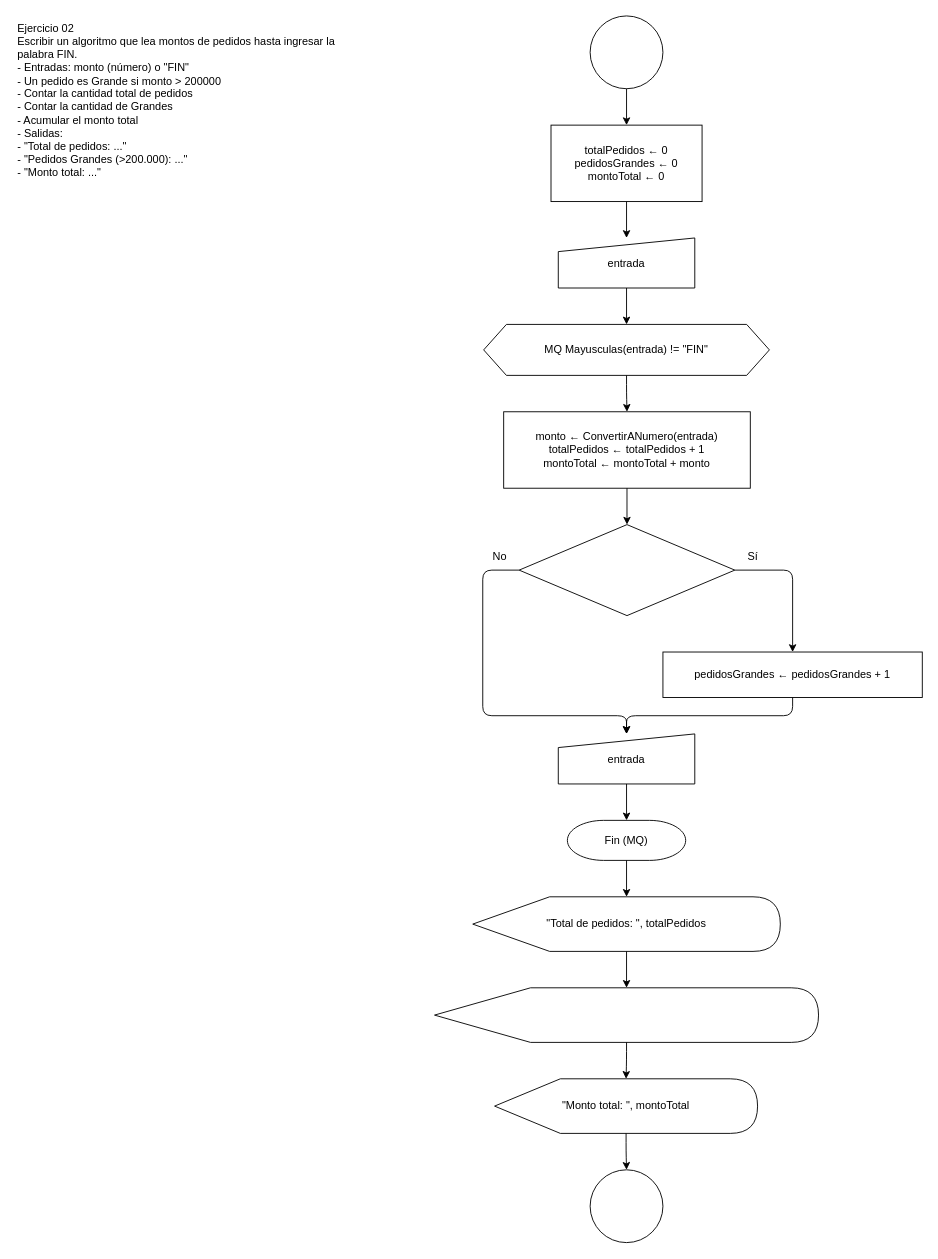
This 938x1259 diagram has some shape labels left out. The shapes that lost their labels are listed below. From the top down, each one's centre as x and y in pixels, then its label:
(x=626, y=52): Inicio
(x=626, y=570): monto > 200000
(x=626, y=1014): "Pedidos Grandes (>200.000): ", pedidosGrandes
(x=626, y=1206): Fin
